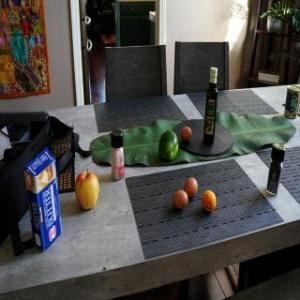bell_pepper: (158, 128, 180, 162)
egg: (174, 189, 188, 211), (179, 125, 193, 143), (184, 176, 196, 195)
